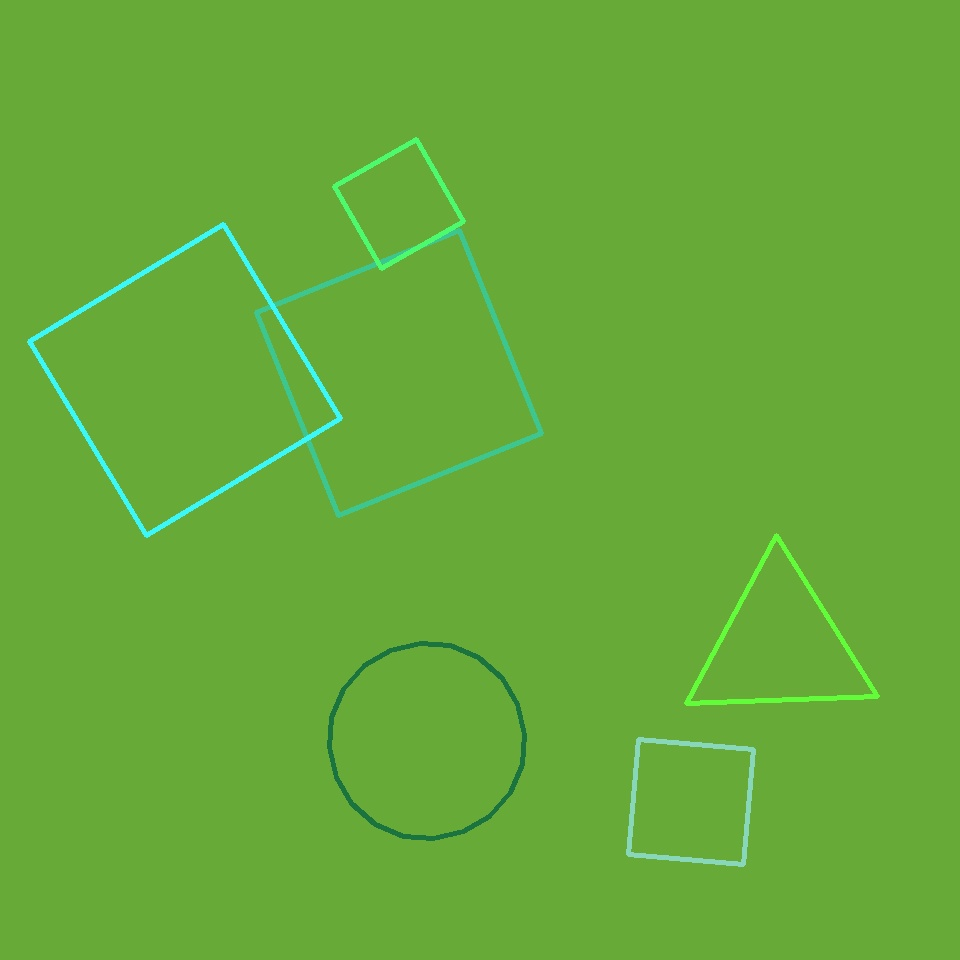circle: (684, 561, 876, 729)
square: (30, 224, 341, 536), (256, 230, 542, 516), (334, 140, 464, 268), (629, 740, 754, 864)
triangle: (330, 644, 524, 838)
